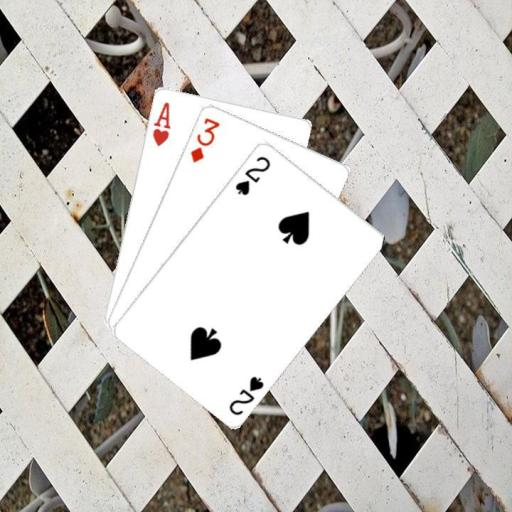2S: (232, 152, 272, 197), (226, 372, 266, 417)
3D: (187, 114, 222, 164)
AH: (149, 98, 172, 147)
